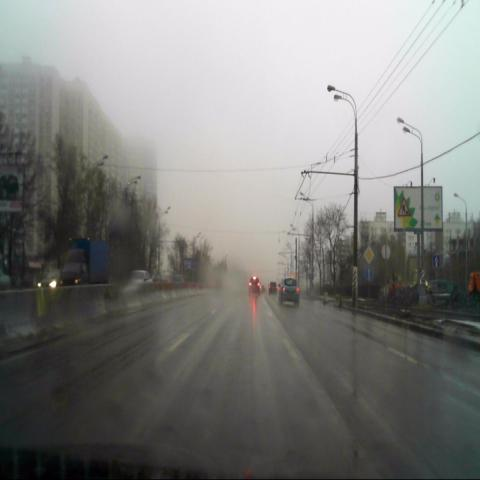1_25: (398, 197, 410, 217)
